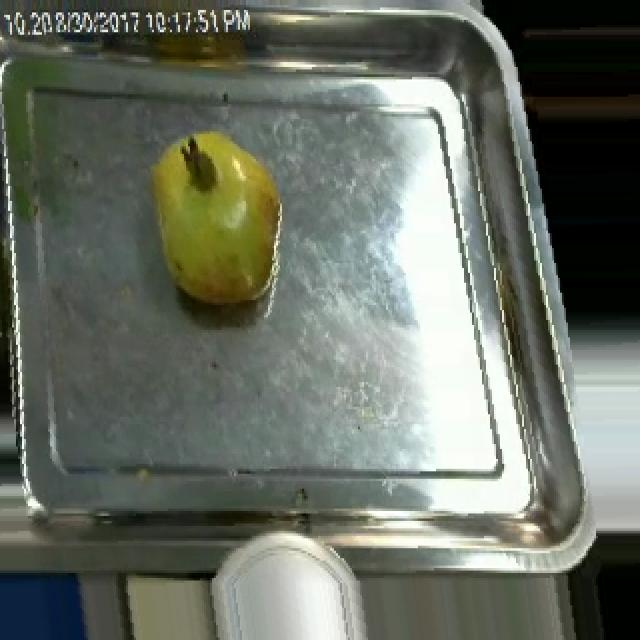fruit: (128, 114, 304, 325)
